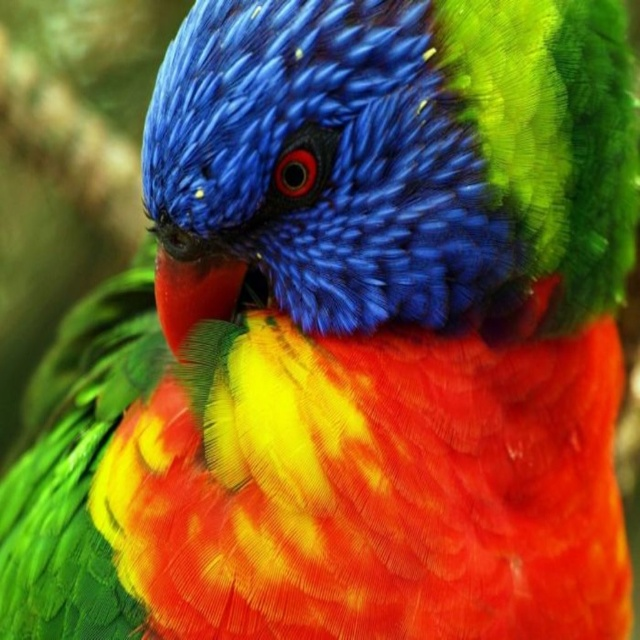Parrot: (0, 0, 639, 636)
